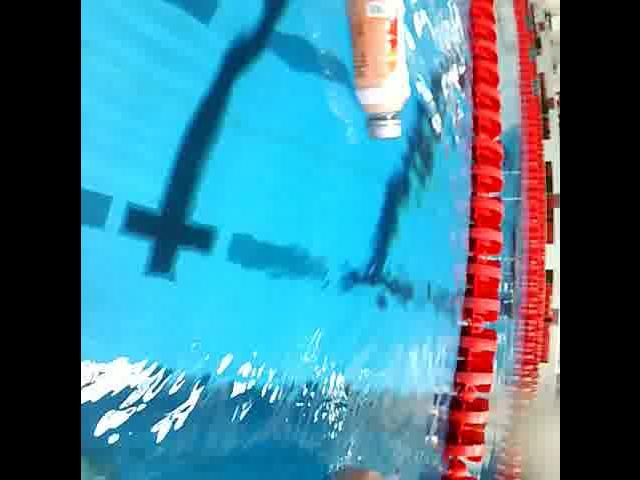Bottle: (339, 0, 413, 150)
